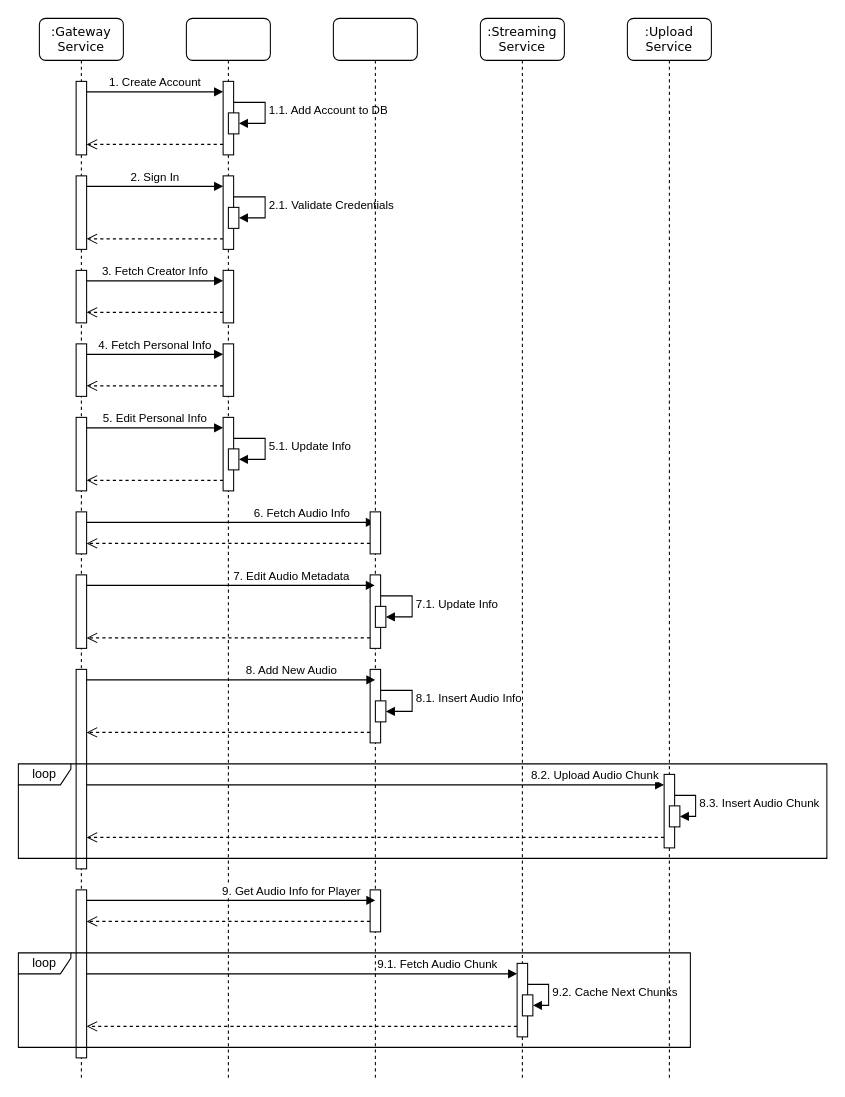
The diagram is 845 pixels wide and 1097 high, and some of its shapes have lost their labels. The shapes that lost their labels are listed below. From the top down, each one's box as (x1, y1, x2, y2) in pixels, then its label:
(185, 17, 270, 1079): :Users Service
(332, 17, 417, 1079): :Audio Data Service
